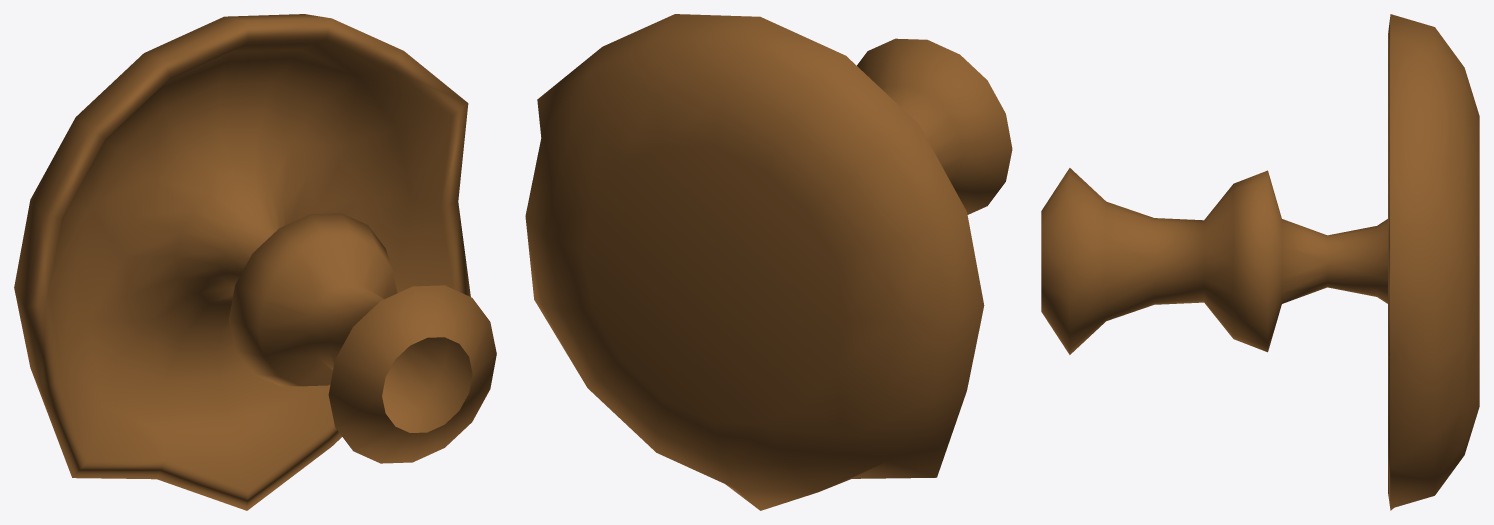
3 views of the same model, side by side, from view 1: azimuth 30°, elevation 25°; view 2: azimuth 150°, elevation 25°; view 3: azimuth 270°, elevation 25° (orthographic). The views are drawn at different scales.
Bounding box in the file's own units: 0.6782 × 0.7115 × 0.5956.
